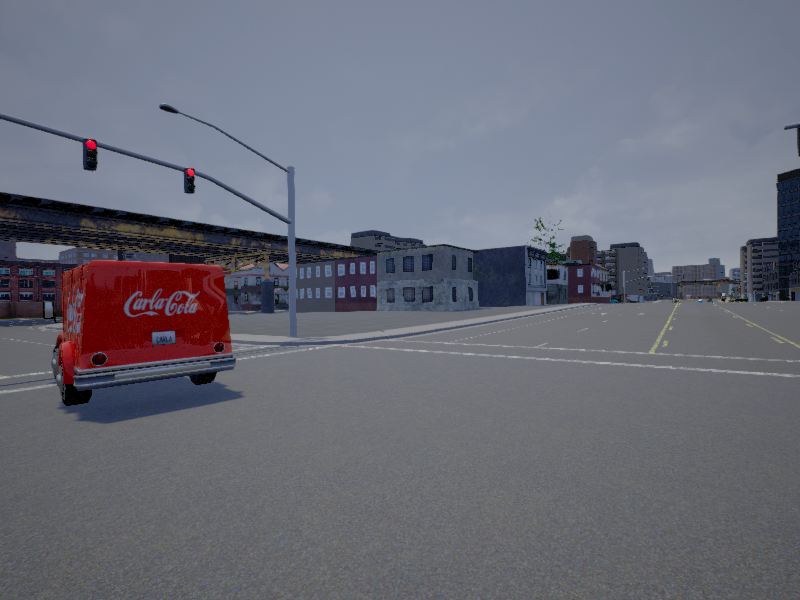Benign: (45, 259, 232, 408)
